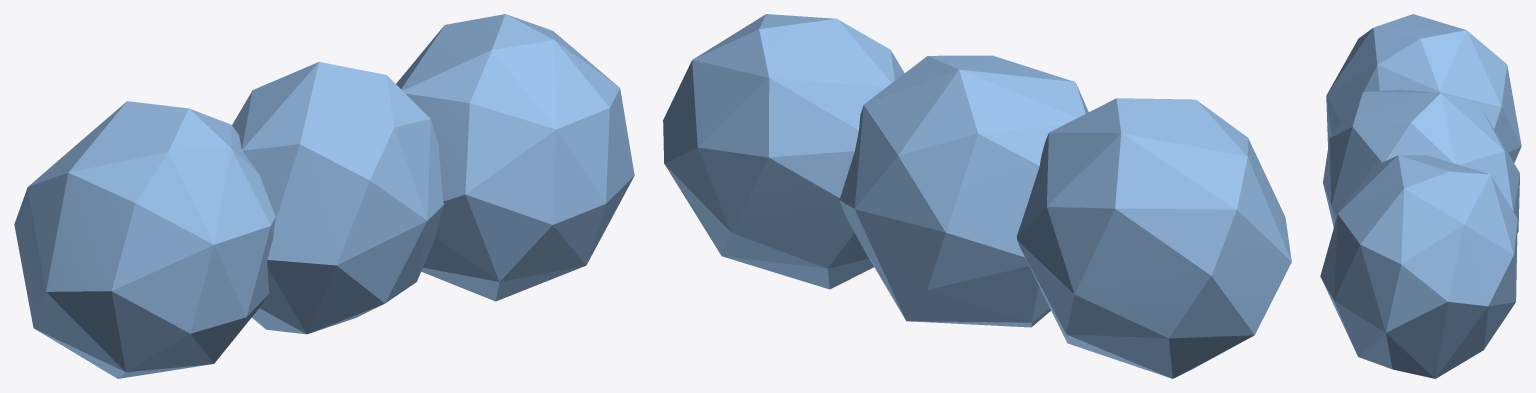
The model's file is cloud_4.fbx.
The picture shows the model from 3 angles, left to right: view 1: azimuth 30°, elevation 25°; view 2: azimuth 150°, elevation 25°; view 3: azimuth 270°, elevation 25°; orthographic projection. The views are drawn at different scales.
Visible parts, largest first — view 1: cloud_4; view 2: cloud_4; view 3: cloud_4.
Part boxes in pixels (<box>): cloud_4: <box>14,14,634,378</box>; cloud_4: <box>663,14,1291,378</box>; cloud_4: <box>1320,14,1521,378</box>.
Bounding box in the file's own units: 676 × 278 × 247.
